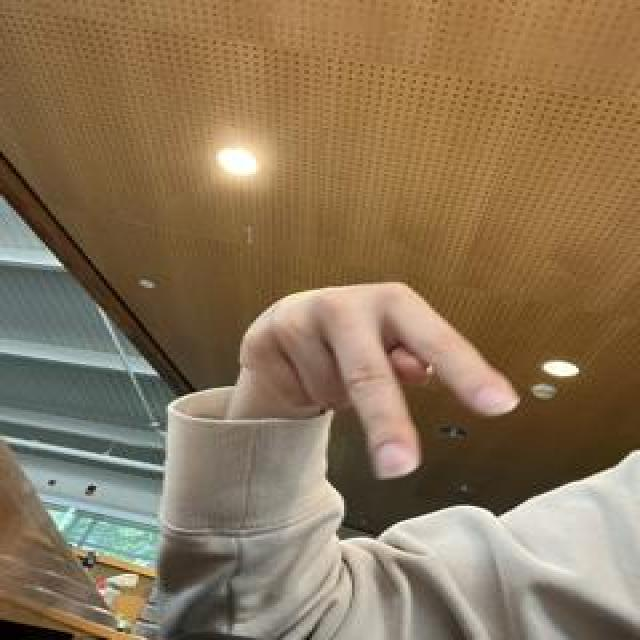P: (223, 276, 524, 482)
